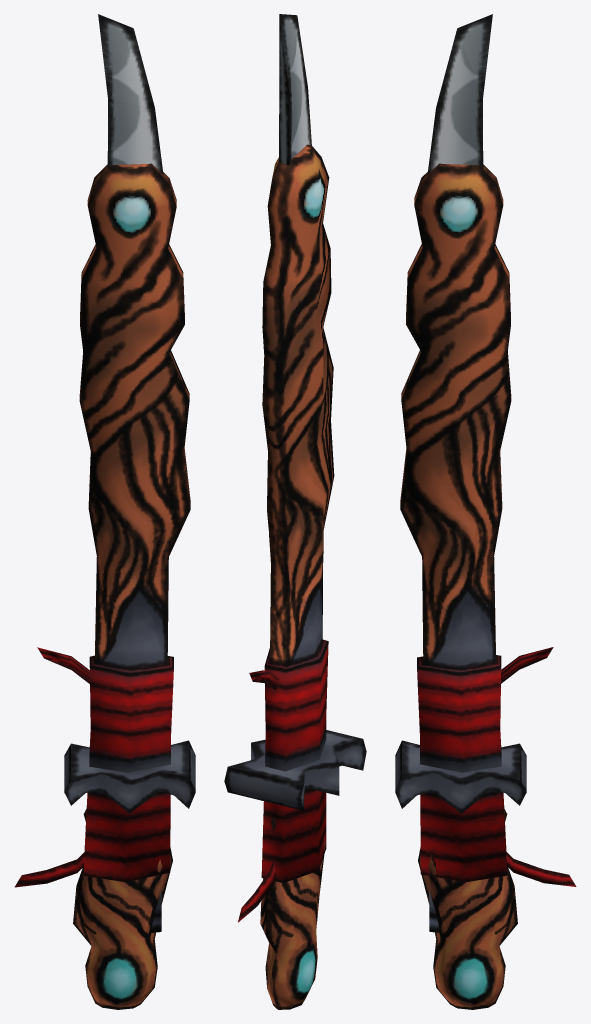
The model's file is WP_1H_Katana07.FBX.
The picture shows the model from 3 angles, left to right: view 1: azimuth 90°, elevation 25°; view 2: azimuth 150°, elevation 25°; view 3: azimuth 270°, elevation 25°; orthographic projection.
Parts seen in each view (by area): view 1: WP_1H_KatanaScabbard07, WP_1H_Katana07; view 2: WP_1H_KatanaScabbard07, WP_1H_Katana07; view 3: WP_1H_KatanaScabbard07, WP_1H_Katana07.
Boxes of the visible parts, bbox=[...] form: WP_1H_KatanaScabbard07: bbox=[14, 163, 190, 932]; WP_1H_Katana07: bbox=[64, 14, 195, 1009]; WP_1H_KatanaScabbard07: bbox=[238, 144, 334, 922]; WP_1H_Katana07: bbox=[224, 14, 366, 1009]; WP_1H_KatanaScabbard07: bbox=[400, 163, 576, 932]; WP_1H_Katana07: bbox=[395, 14, 526, 1009].
Bounding box in the file's own units: 10.9 × 118 × 19.55.
Materials: 1 (1 with a texture image).
